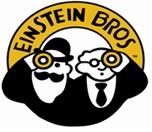einstein_bros: (11, 0, 140, 121)
